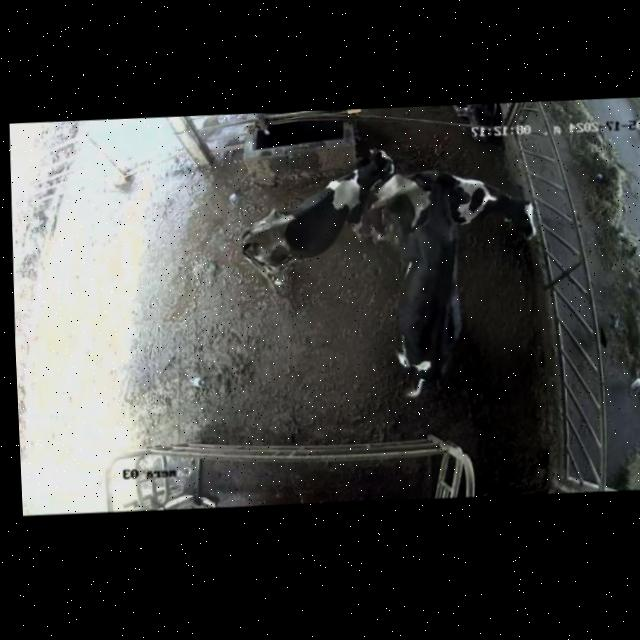propping: (403, 168, 469, 252)
stand: (203, 142, 399, 300), (351, 157, 543, 265)
